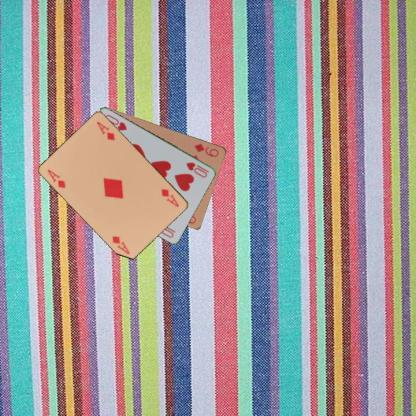10h: (184, 160, 210, 178)
9d: (192, 141, 220, 158)
Ad: (45, 166, 67, 190), (159, 186, 180, 208)
